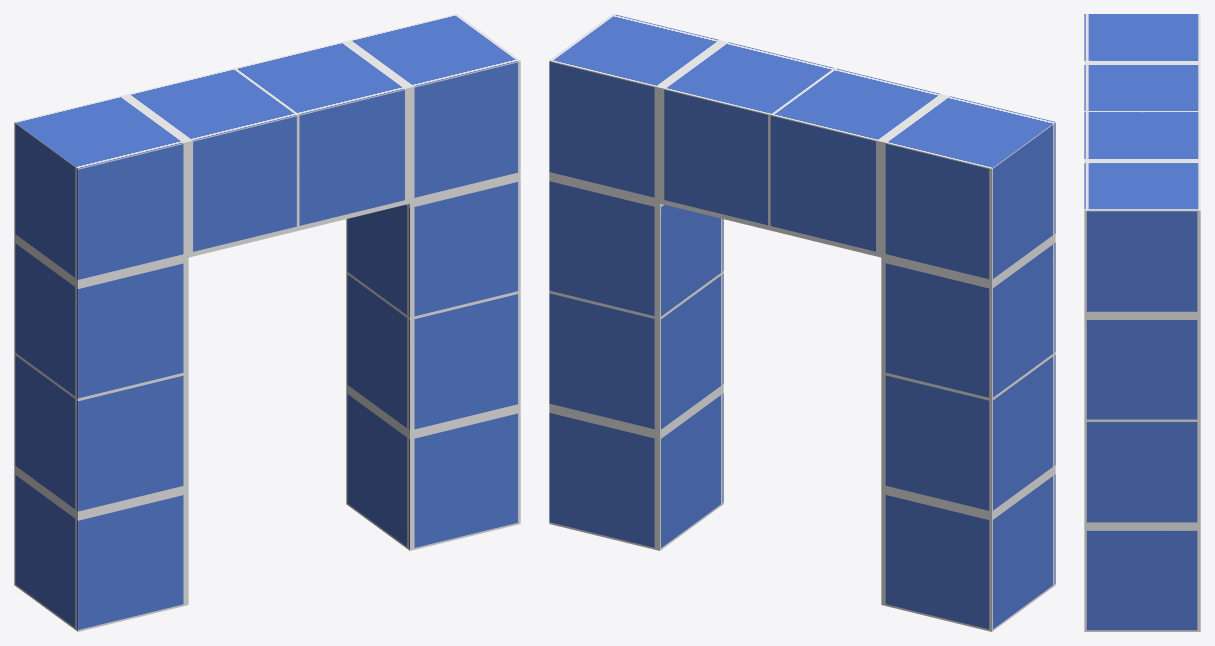
The model's file is M_Door.FBX.
3 views of the same model, side by side, from view 1: azimuth 30°, elevation 25°; view 2: azimuth 150°, elevation 25°; view 3: azimuth 270°, elevation 25° (orthographic). The views are drawn at different scales.
Parts seen in each view (by area): view 1: M_Door; view 2: M_Door; view 3: M_Door.
Part boxes in pixels (x1,y1,x2,y2): M_Door: (14, 14, 520, 631); M_Door: (549, 14, 1055, 631); M_Door: (1084, 14, 1200, 631).
Bounding box in the file's own units: 400 × 400 × 100.
